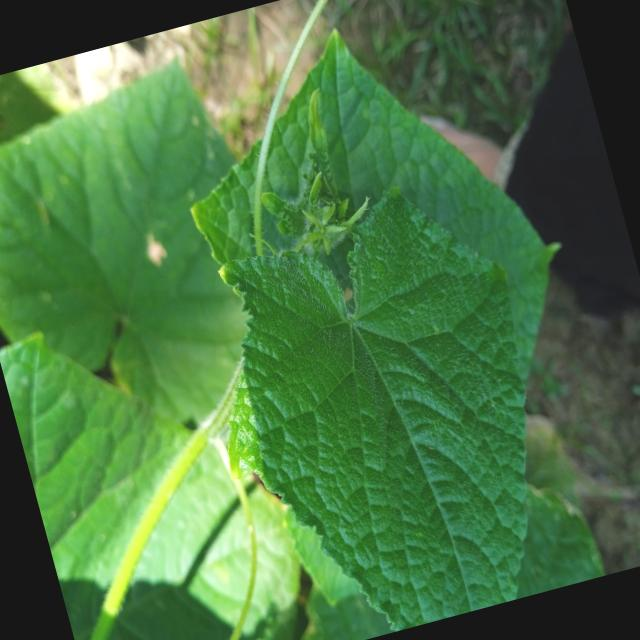cucumber_healthy: (119, 0, 640, 640), (0, 37, 297, 466), (0, 275, 323, 640)
